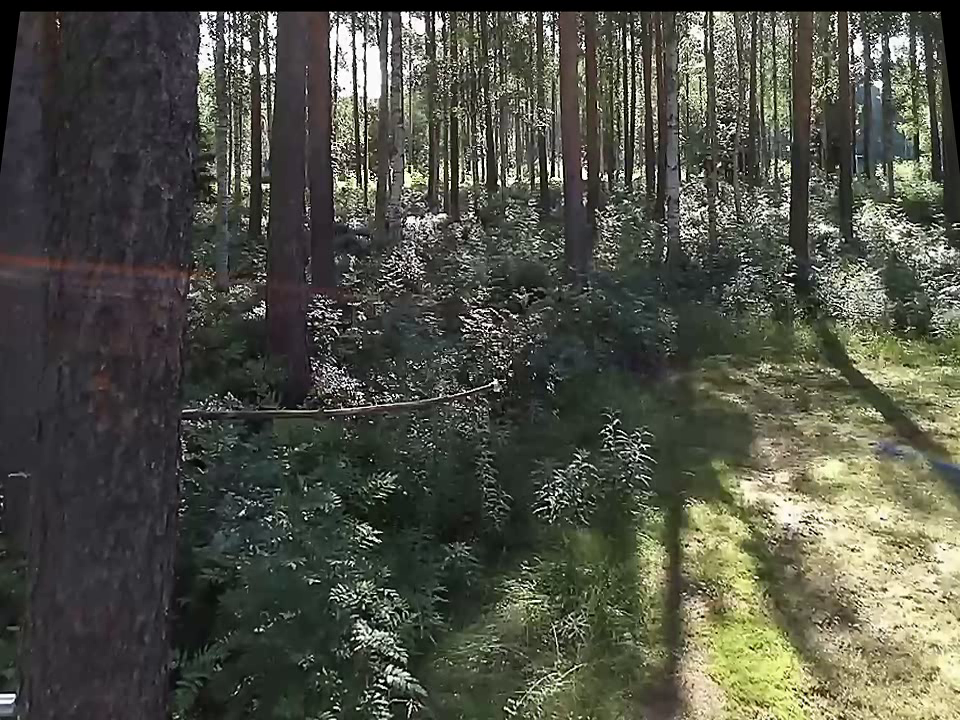branch: (183, 374, 486, 427)
